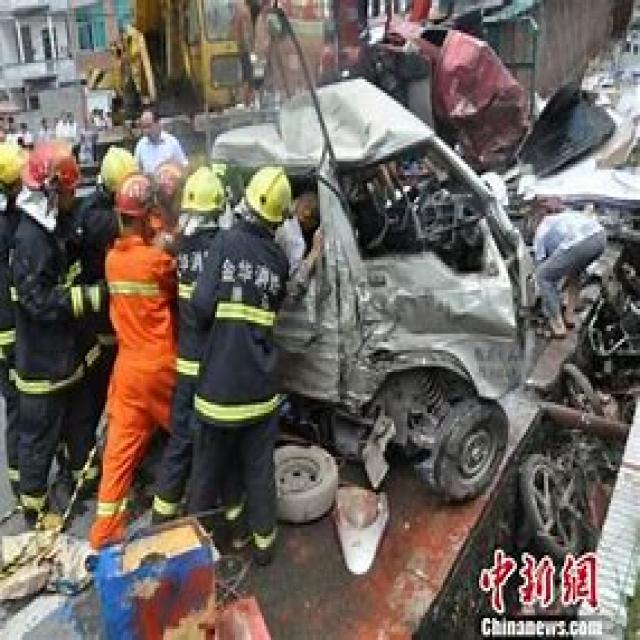Accident: (14, 44, 640, 570)
